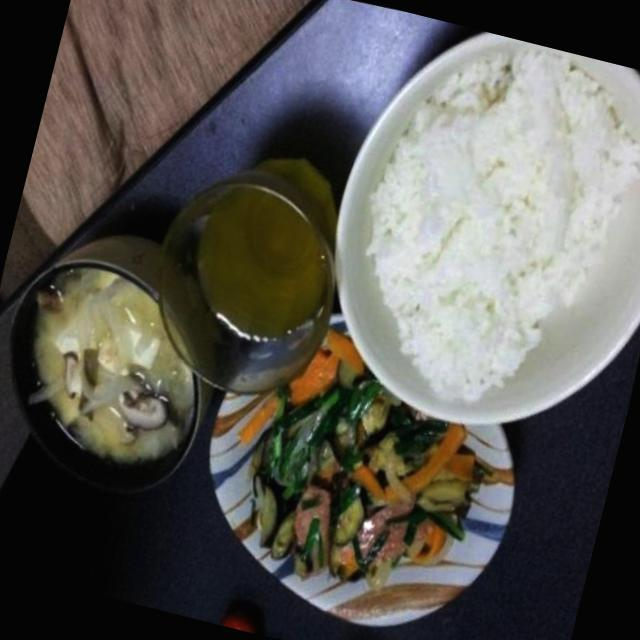Rice: (311, 11, 640, 445)
